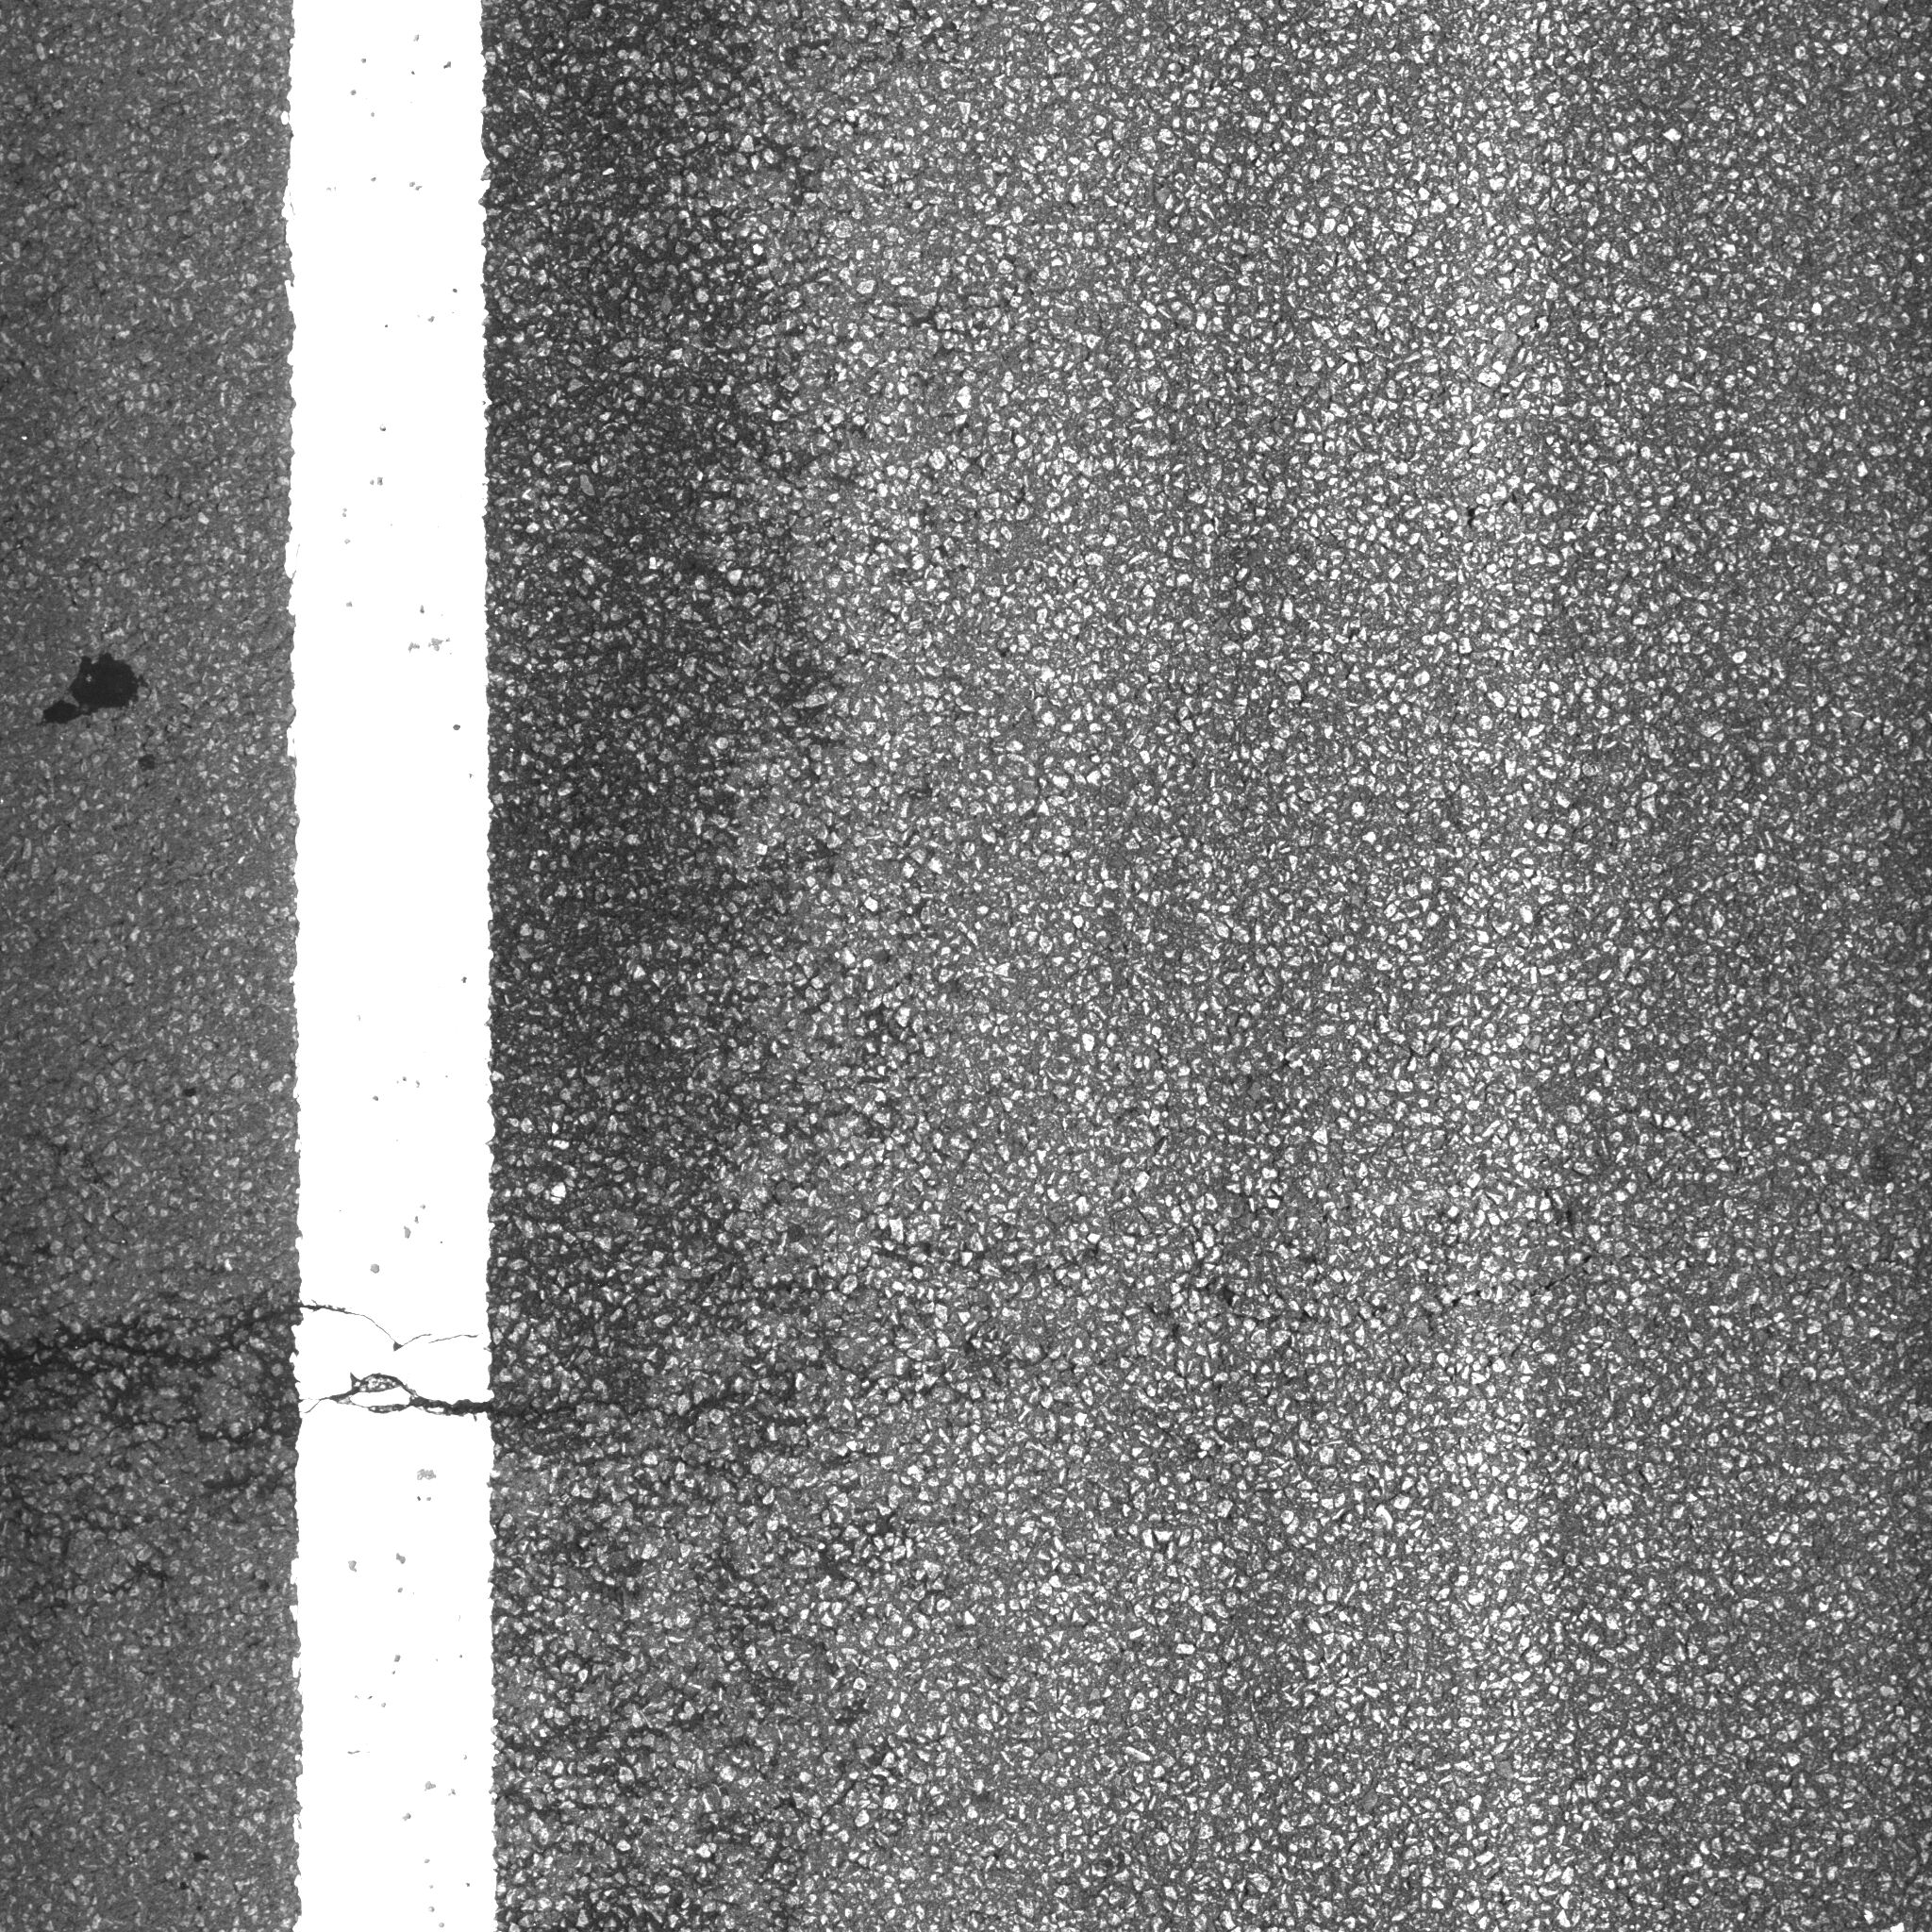transeverse: (11, 1261, 816, 1472)
